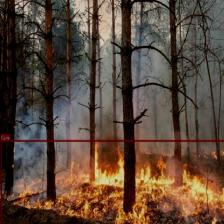fire: (0, 139, 223, 224)
